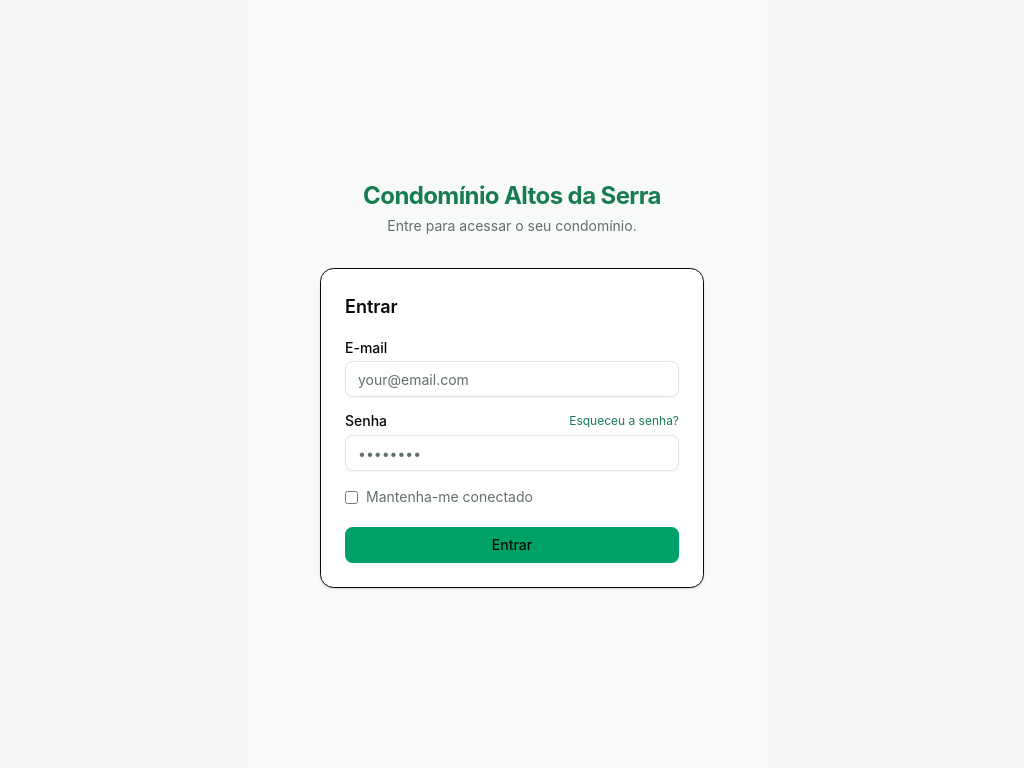
Test: anonymous login at /c/<slug> (real providers) › shows the no-access panel to an anonymous non-member, with no navigation
Type "visitor@test.com" into the field labelled "E-mail".
click(512, 379); type("visitor@test.com")  # box [345, 361, 679, 397]
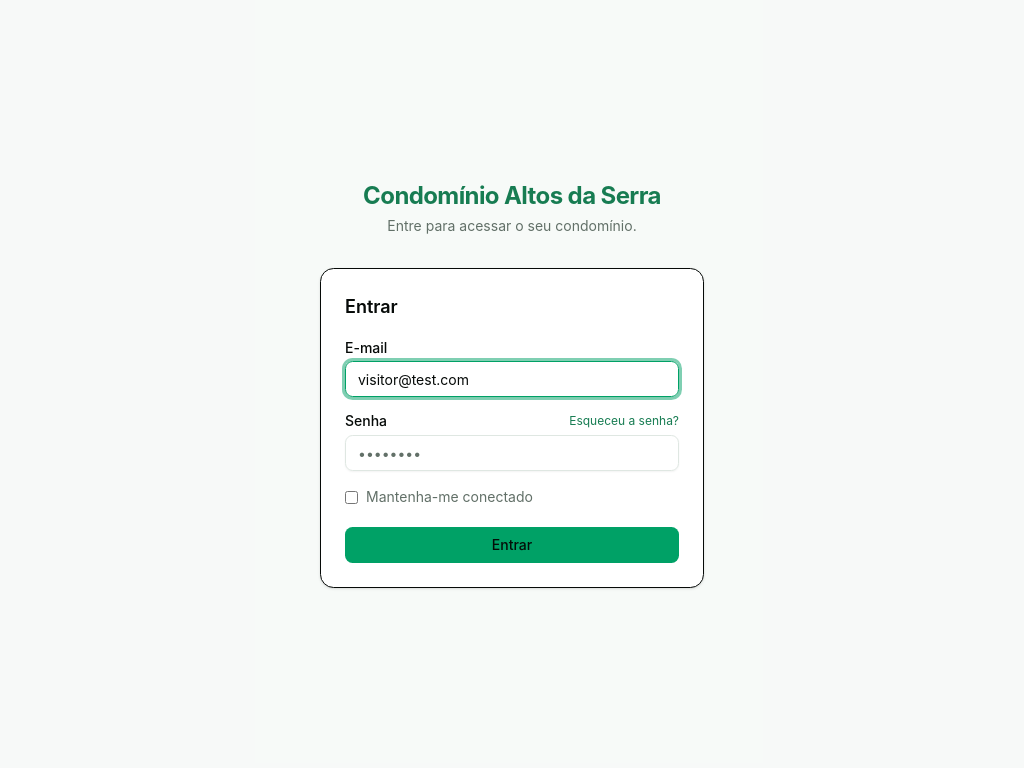
Type "secret" into the password field labelled "Senha".
click(512, 453); type("secret")  # box [345, 435, 679, 471]
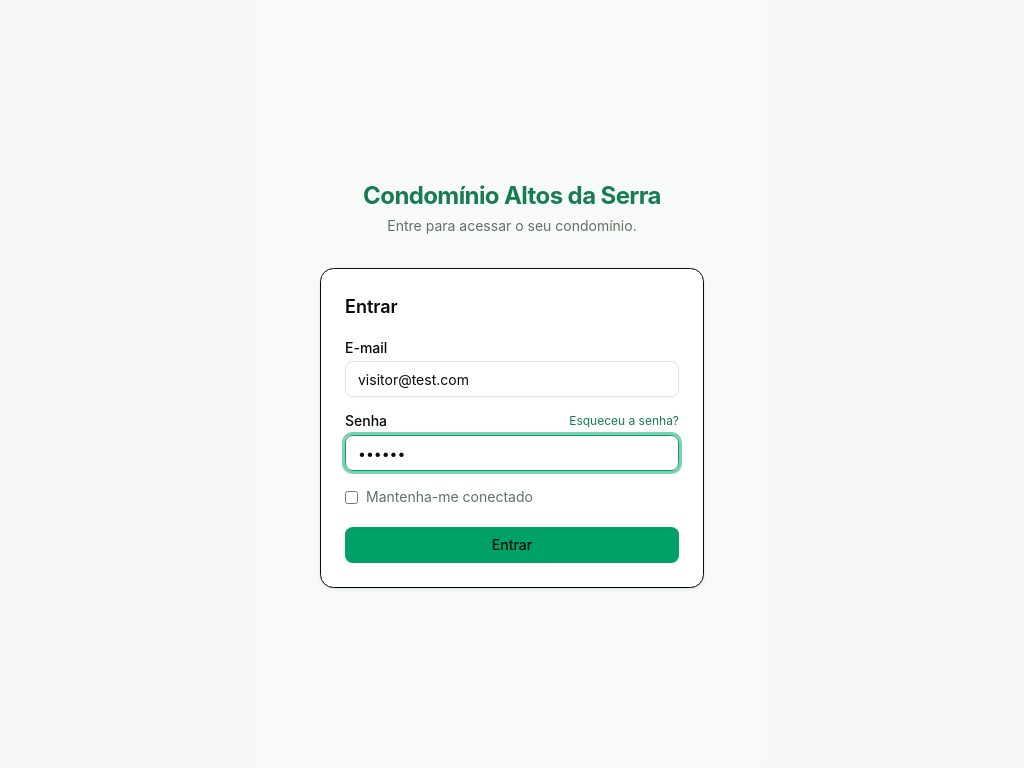
Click the button "Entrar".
click(512, 545)  # box [345, 527, 679, 563]
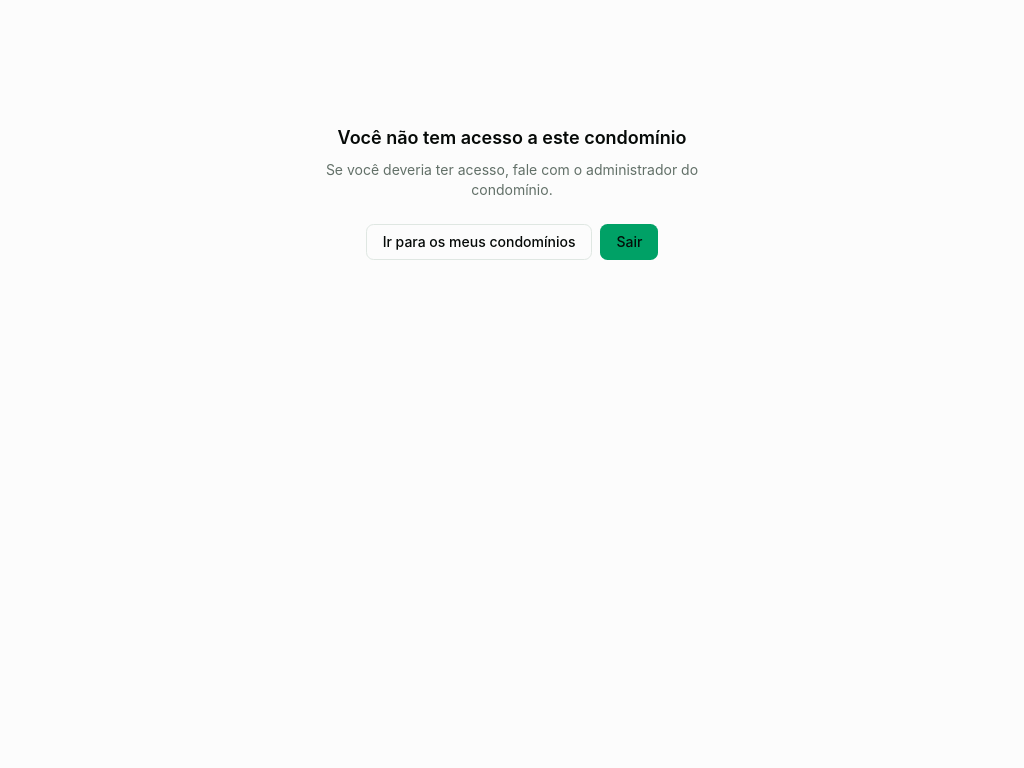
Now the text "Você não tem acesso a este condomínio" is shown, box [338, 124, 686, 152]
